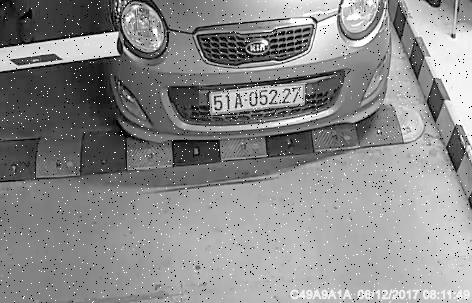License-plate: (201, 85, 315, 122)
